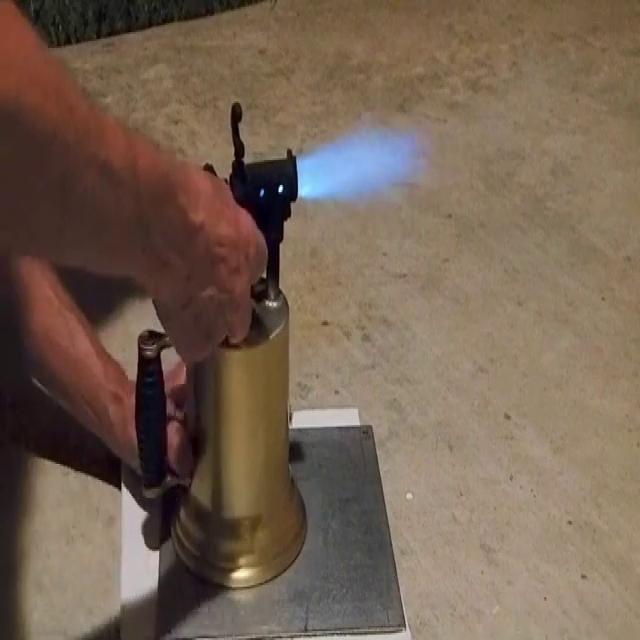fire: (288, 116, 451, 202)
